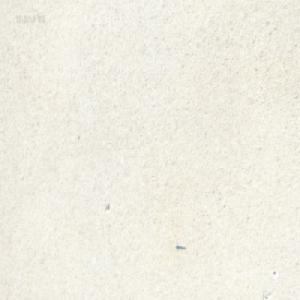Nail: (175, 242, 186, 250)
